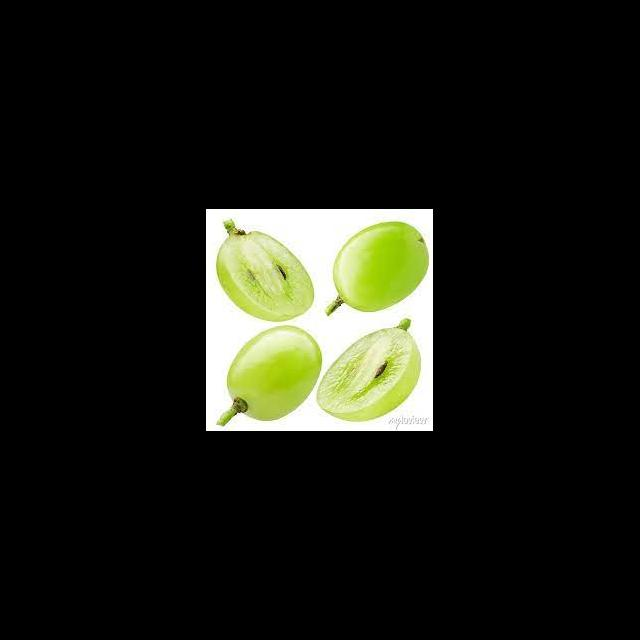grape: (316, 317, 422, 421), (215, 324, 322, 426), (216, 218, 314, 321), (324, 220, 430, 315)
